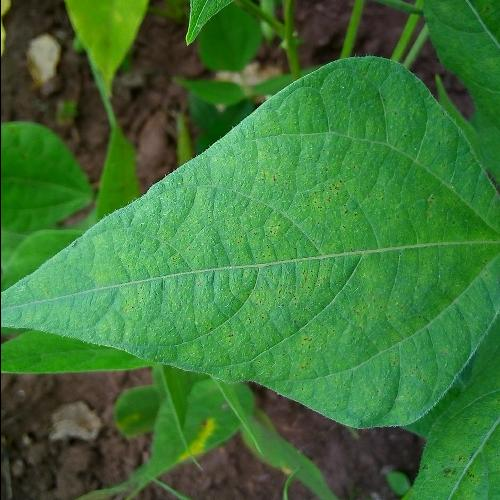sehat: (150, 174, 466, 354)
